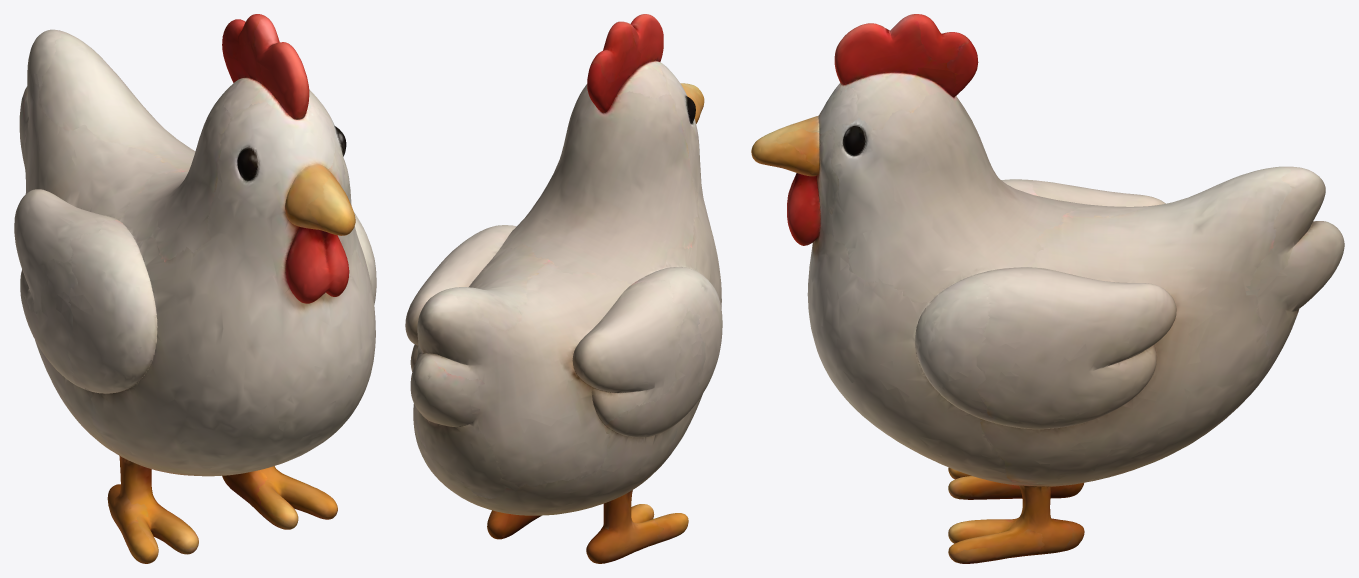
The model's file is chicken_pbr.glb.
The picture shows the model from 3 angles, left to right: view 1: azimuth 30°, elevation 25°; view 2: azimuth 150°, elevation 25°; view 3: azimuth 270°, elevation 25°; orthographic projection. The views are drawn at different scales.
Visible parts, largest first — view 1: model.004; view 2: model.004; view 3: model.004.
Boxes of the visible parts, x1,y1,x2,y2 form: model.004: (14, 14, 376, 563); model.004: (405, 14, 722, 563); model.004: (751, 14, 1344, 563).
Size of the model in its own units: 0.77 by 1.39 by 1.48.
Materials: 1 (1 with a texture image).
